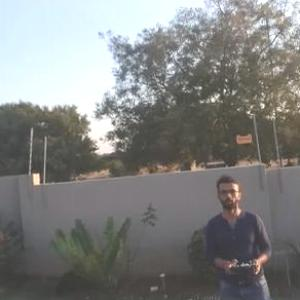follow: (204, 172, 280, 299)
